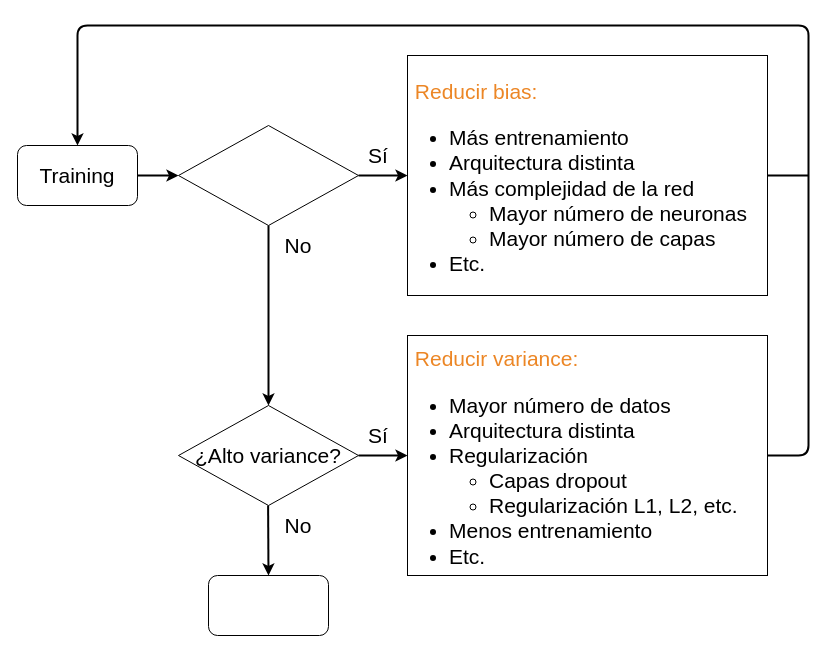
The diagram is 835 pixels wide and 653 high, and some of its shapes have lost their labels. Here are the shapes that lost their labels. From the top down, the centre of each, then its label:
point (268, 175): ¿Alto bías?
point (268, 605): Fin
